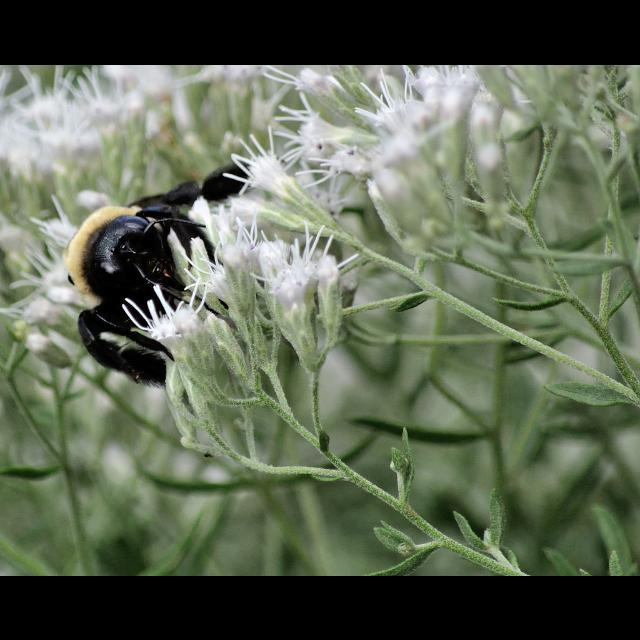Flower: (0, 64, 560, 514)
